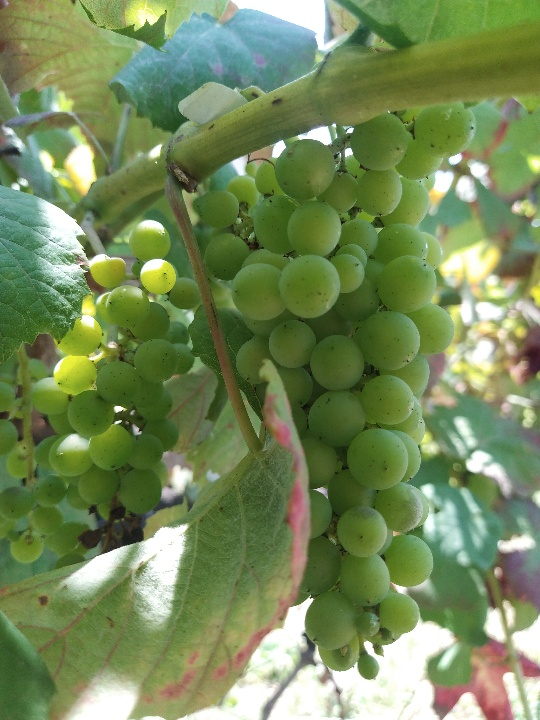grape: (193, 104, 476, 683), (33, 220, 191, 555)
